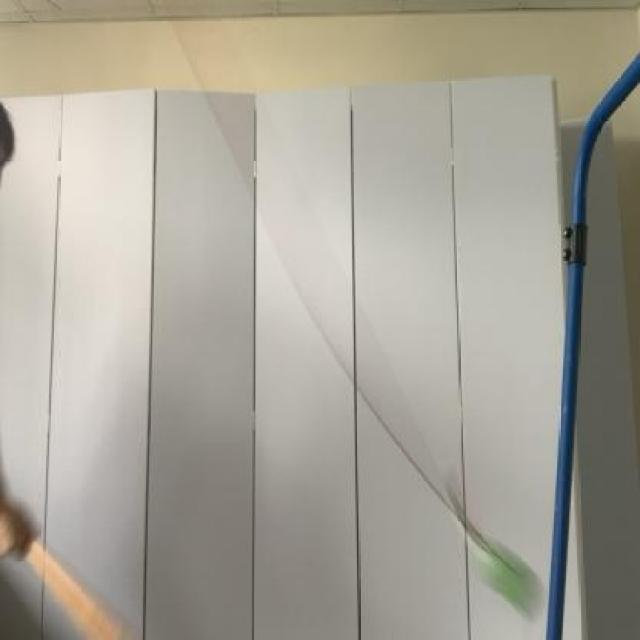baseball: (467, 529, 551, 631)
